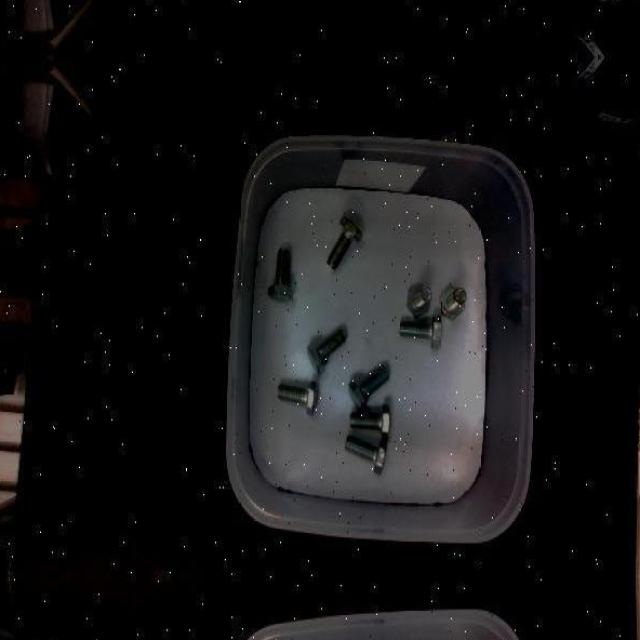screw: (327, 214, 362, 269), (348, 368, 389, 413), (306, 328, 346, 374), (344, 434, 387, 474), (349, 405, 390, 440), (399, 315, 441, 349), (277, 381, 318, 415), (268, 248, 293, 302), (439, 285, 466, 320), (406, 281, 432, 317)
